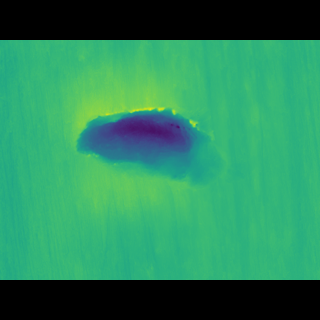Loch: (75, 114, 250, 187)
